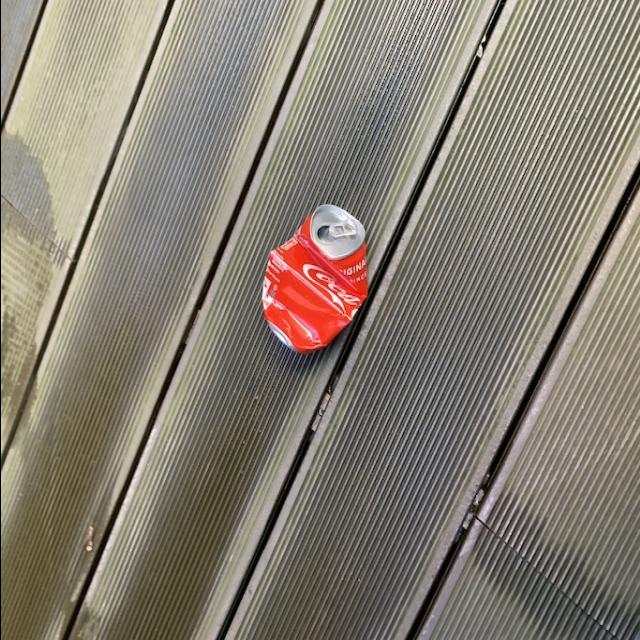Aluminum Can: (254, 208, 368, 356)
